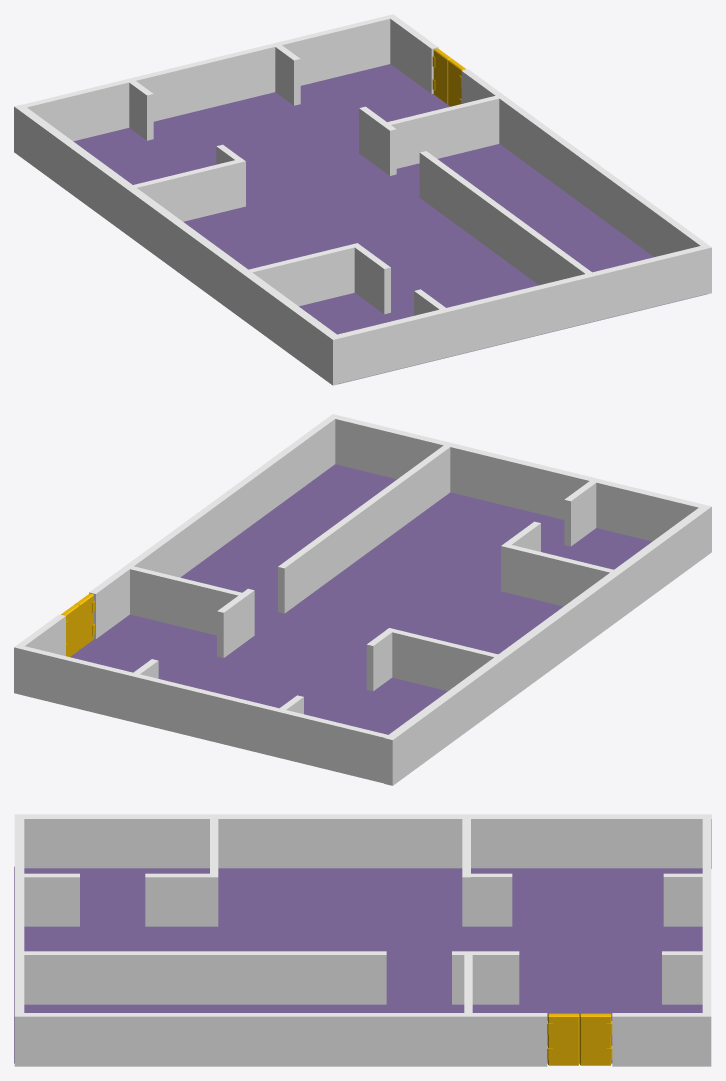
The model's file is maps_76.fbx.
3 views of the same model, one above another, from view 1: azimuth 30°, elevation 25°; view 2: azimuth 150°, elevation 25°; view 3: azimuth 270°, elevation 25° (orthographic). The views are drawn at different scales.
Parts seen in each view (by area): view 1: wall_01_08_geo, wall_01_05_geo, wall_01_07_geo, wall_01_09_geo, wall_01_06_geo, wall_01_11_geo24, wall_01_11_geo27, wall_01_11_geo23, wall_01_11_geo13, wall_01_06_geo1, wall_01_11_geo26, wall_01_11_geo29 (+4 smaller); view 2: wall_01_08_geo, wall_01_09_geo, wall_01_07_geo, wall_01_05_geo, wall_01_06_geo, wall_01_11_geo24, wall_01_11_geo27, wall_01_11_geo13, wall_01_11_geo23, wall_01_11_geo26, wall_01_11_geo28, wall_01_06_geo1 (+4 smaller); view 3: wall_01_08_geo, wall_01_07_geo, wall_01_06_geo, wall_01_11_geo24, wall_01_06_geo1, wall_01_11_geo29, wall_01_11_geo26, wall_01_11_geo28, wall_01_11_geo30, wall_01_11_geo25, wall_01_11_geo21, wall_01_05_geo (+6 smaller).
Boxes of the visible parts, left/top/right/bottom form: wall_01_08_geo: left=73, top=64, right=706, bottom=383; wall_01_05_geo: left=337, top=246, right=705, bottom=383; wall_01_07_geo: left=14, top=104, right=341, bottom=385; wall_01_09_geo: left=23, top=16, right=390, bottom=141; wall_01_06_geo: left=461, top=69, right=711, bottom=294; wall_01_11_geo24: left=419, top=151, right=591, bottom=285; wall_01_11_geo27: left=387, top=96, right=499, bottom=168; wall_01_11_geo23: left=133, top=158, right=245, bottom=221; wall_01_11_geo13: left=249, top=243, right=360, bottom=306; wall_01_06_geo1: left=387, top=14, right=438, bottom=93; wall_01_11_geo26: left=359, top=106, right=396, bottom=175; wall_01_11_geo29: left=354, top=246, right=390, bottom=314; wall_01_08_geo: left=70, top=464, right=651, bottom=734; wall_01_09_geo: left=20, top=646, right=387, bottom=783; wall_01_07_geo: left=384, top=504, right=711, bottom=785; wall_01_05_geo: left=335, top=415, right=703, bottom=541; wall_01_06_geo: left=89, top=414, right=338, bottom=639; wall_01_11_geo24: left=278, top=445, right=450, bottom=613; wall_01_11_geo27: left=130, top=566, right=244, bottom=635; wall_01_11_geo13: left=501, top=543, right=613, bottom=606; wall_01_11_geo23: left=386, top=628, right=497, bottom=690; wall_01_11_geo26: left=217, top=588, right=254, bottom=657; wall_01_11_geo28: left=564, top=481, right=596, bottom=546; wall_01_06_geo1: left=14, top=614, right=65, bottom=694; wall_01_08_geo: left=14, top=866, right=702, bottom=1063; wall_01_07_geo: left=14, top=814, right=711, bottom=868; wall_01_06_geo: left=14, top=1013, right=547, bottom=1066; wall_01_11_geo24: left=24, top=951, right=386, bottom=1004; wall_01_06_geo1: left=612, top=1013, right=711, bottom=1066; wall_01_11_geo29: left=145, top=873, right=209, bottom=926; wall_01_11_geo26: left=452, top=951, right=519, bottom=1004; wall_01_11_geo28: left=24, top=873, right=79, bottom=926; wall_01_11_geo30: left=470, top=873, right=512, bottom=926; wall_01_11_geo25: left=662, top=951, right=703, bottom=1004; wall_01_11_geo21: left=663, top=873, right=702, bottom=926; wall_01_05_geo: left=14, top=818, right=24, bottom=1012.
Bounding box in the file's own units: 76.85 × 8.89 × 112.
2 materials, 2 textured.
